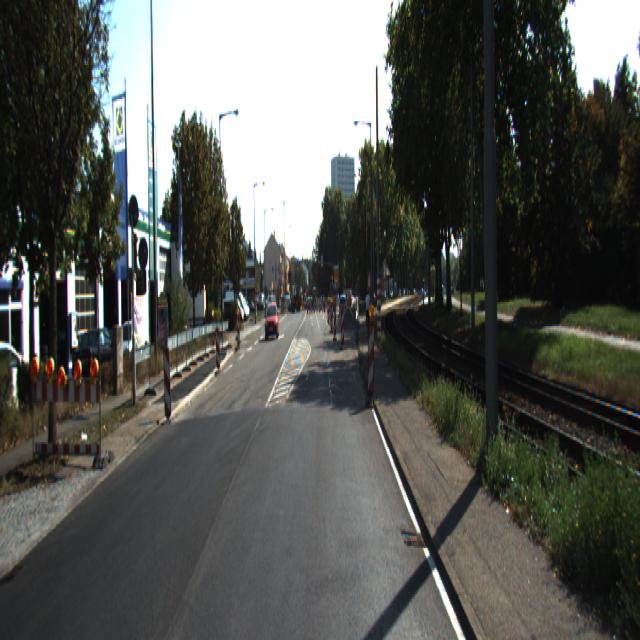Car: (265, 305, 280, 342)
